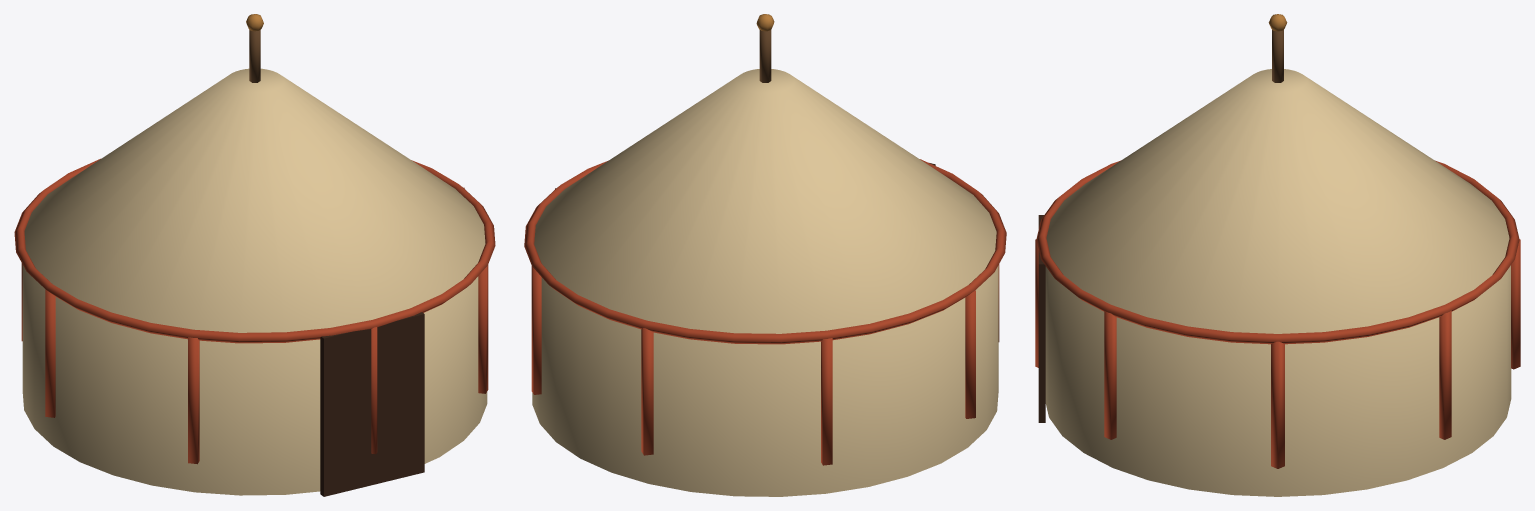
File: zelt_rund.glb
3 views of the same model, side by side, from view 1: azimuth 30°, elevation 25°; view 2: azimuth 150°, elevation 25°; view 3: azimuth 270°, elevation 25° (orthographic).
Parts seen in each view (by area): view 1: d; view 2: d; view 3: d.
Boxes of the visible parts, x1,y1,x2,y2 form: d: (14, 14, 495, 496); d: (524, 14, 1006, 496); d: (1035, 14, 1520, 496).
Size of the model in its own units: 4.16 by 3.63 by 4.16.
